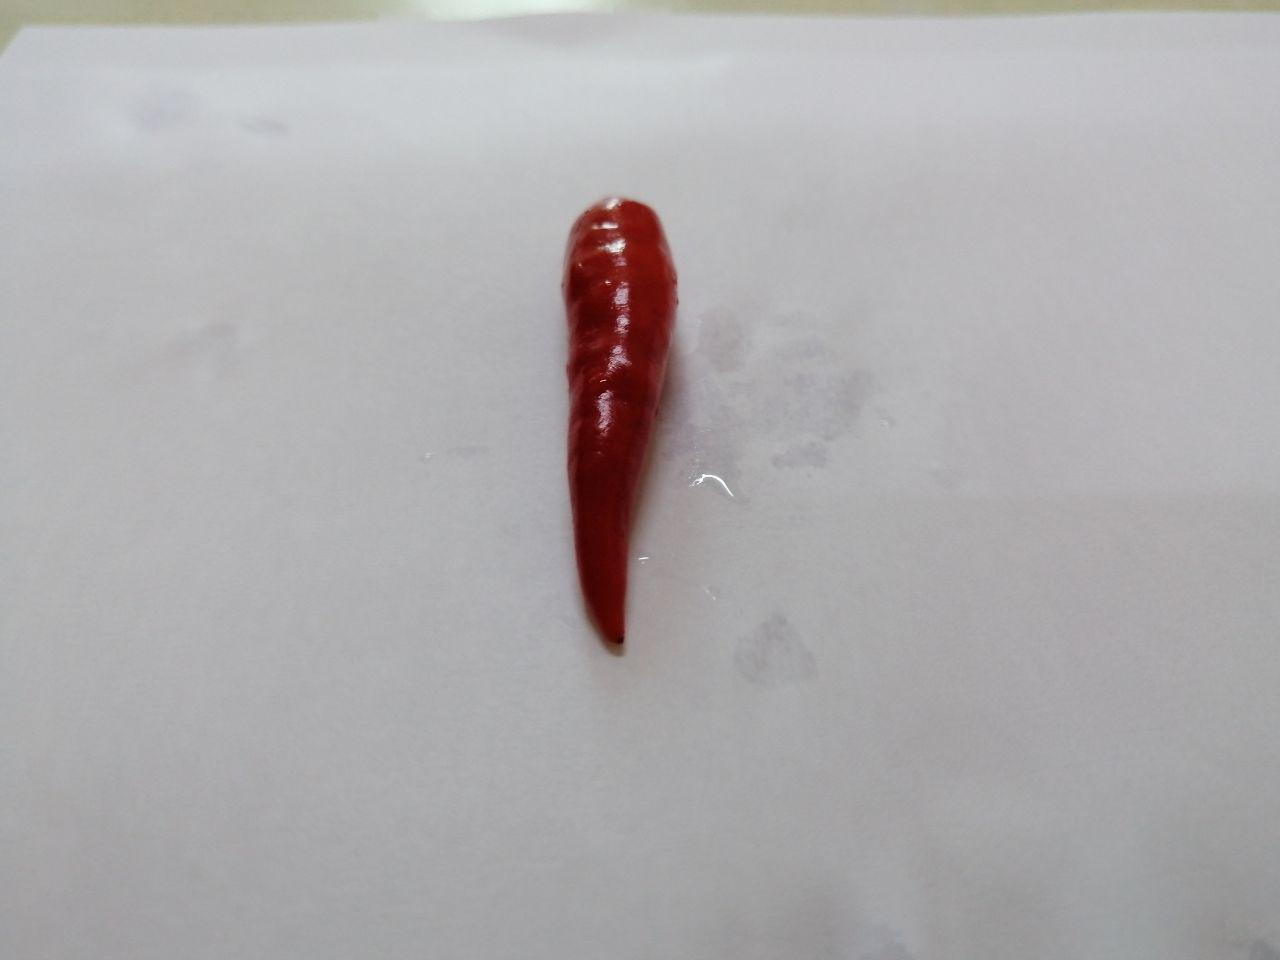lada merah: (525, 167, 719, 665)
